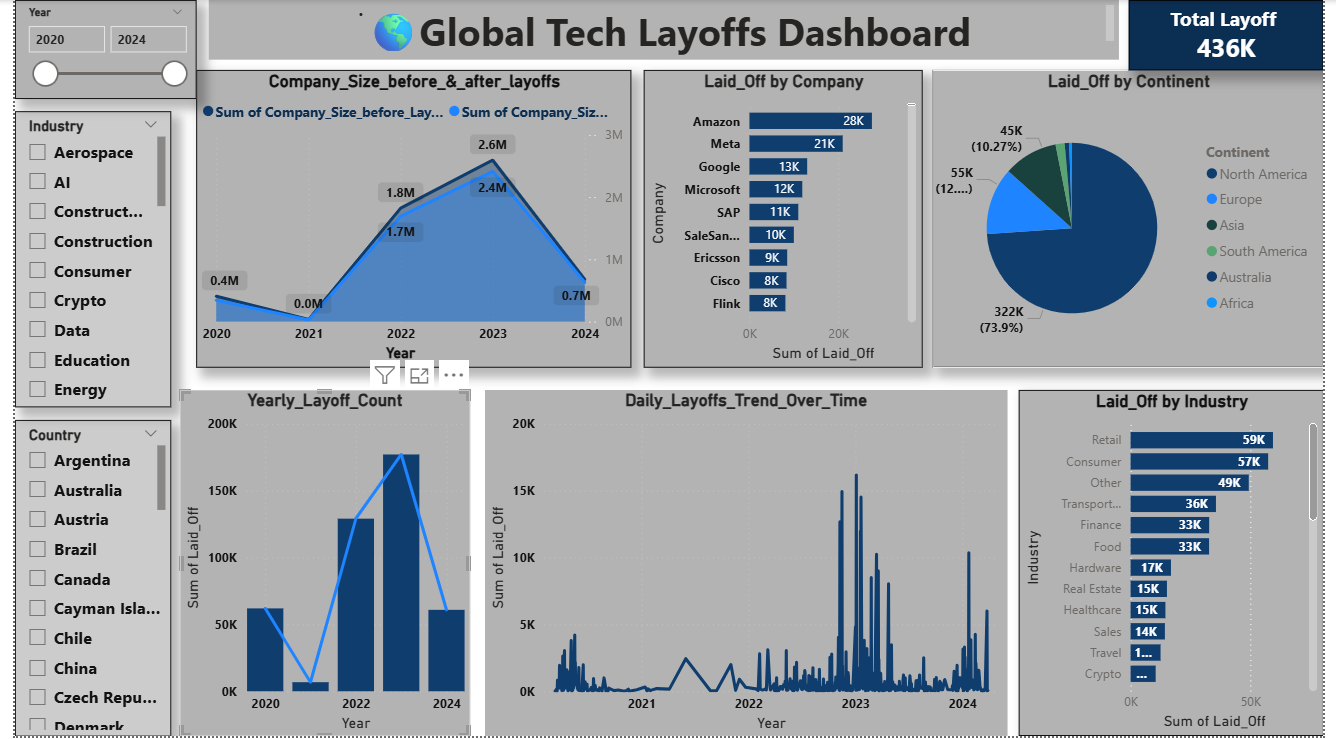

What the dashboard file says about the page in this screenshot:
{"tool":"powerbi","page":{"name":"Page 1","canvas":[1280,720],"ordinal":0},"visuals":[{"type":"lineStackedColumnComboChart","title":"Yearly_Layoff_Count","fields":{"Category":["Sheet1.Year"],"Y":["Sum(Sheet1.Laid_Off)"],"Y2":["Sum(Sheet1.Laid_Off)"]},"box":[161.4,381.5,283.7,338.7],"z":0},{"type":"areaChart","title":"Company_Size_before_&_after_layoffs","fields":{"Category":["Sheet1.Date_layoffs.Variation.Date Hierarchy.Year"],"Y2":["Sum(Sheet1.Company_Size_before_Layoffs)","Sum(Sheet1.Company_Size_after_layoffs)"]},"box":[177.3,68.5,425.5,291],"z":1000},{"type":"barChart","title":" Laid_Off by Company","fields":{"Category":["Sheet1.Company"],"Y":["Sum(Sheet1.Laid_Off)"]},"box":[615.1,68.5,272.7,291],"z":2000},{"type":"slicer","fields":{"Values":["Sheet1.Country"]},"box":[0,410.9,152.9,309.4],"z":3000},{"type":"slicer","fields":{"Values":["Sheet1.Industry"]},"box":[0,108.8,152.9,289.8],"z":4000},{"type":"slicer","fields":{"Values":["Sheet1.Year"]},"box":[0,0,177.3,96.6],"z":5000},{"type":"clusteredBarChart","title":"Laid_Off by Industry","fields":{"Category":["Sheet1.Industry"],"Y":["Sum(Sheet1.Laid_Off)"]},"box":[981.9,381.5,298.4,338.7],"z":6000},{"type":"pieChart","title":" Laid_Off by Continent","fields":{"Category":["Sheet1.Continent"],"Y":["Sum(Sheet1.Laid_Off)"]},"box":[897.6,68.5,382.7,291],"z":7000},{"type":"textbox","box":[1089.5,0,190.8,68.5],"z":8000},{"type":"textbox","box":[189.5,0,890.2,58.7],"z":9000},{"type":"lineChart","title":"Daily_Layoffs_Trend_Over_Time","fields":{"Category":["Sheet1.Date_layoffs.Variation.Date Hierarchy.Year","Sheet1.Date_layoffs.Variation.Date Hierarchy.Quarter","Sheet1.Date_layoffs.Variation.Date Hierarchy.Month","Sheet1.Date_layoffs.Variation.Date Hierarchy.Day"],"Y":["Sum(Sheet1.Laid_Off)"]},"box":[459.8,381.5,511.1,338.7],"z":9001}]}

Visuals, with their boxes in screenshot pixels (x1, y1, x2, y2):
"Yearly_Layoff_Count" lineStackedColumnComboChart: l=173, t=385, r=460, b=728
"Company_Size_before_&_after_layoffs" areaChart: l=190, t=69, r=619, b=363
" Laid_Off by Company" barChart: l=632, t=69, r=907, b=363
slicer - Sheet1.Country: l=10, t=415, r=165, b=728
slicer - Sheet1.Industry: l=10, t=110, r=165, b=403
slicer - Sheet1.Year: l=10, t=0, r=190, b=98
"Laid_Off by Industry" clusteredBarChart: l=1002, t=385, r=1304, b=728
" Laid_Off by Continent" pieChart: l=917, t=69, r=1304, b=363
textbox: l=1111, t=0, r=1304, b=69
textbox: l=202, t=0, r=1101, b=59
"Daily_Layoffs_Trend_Over_Time" lineChart: l=475, t=385, r=991, b=728
